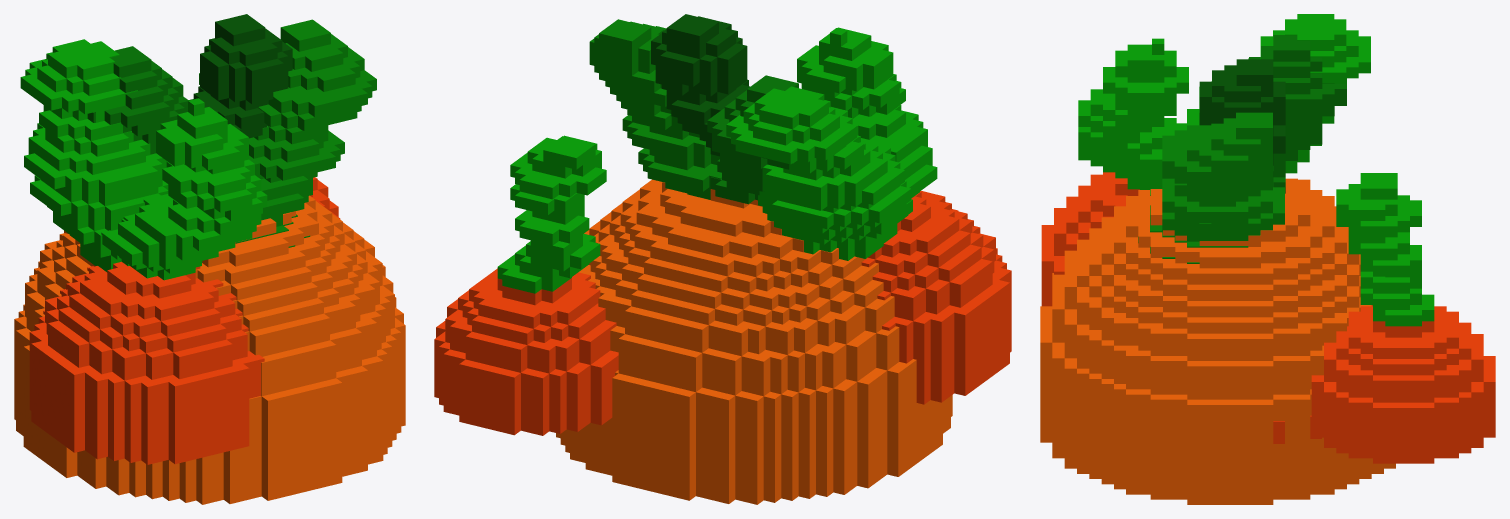
Rendered from CarrotTree.fbx.
3 renders of one model, left to right at view 1: azimuth 30°, elevation 25°; view 2: azimuth 150°, elevation 25°; view 3: azimuth 270°, elevation 25°, orthographic. The views are drawn at different scales.
Parts seen in each view (by area): view 1: CarrotTree, CarrotTree2, CarrotTree3; view 2: CarrotTree, CarrotTree2, CarrotTree3; view 3: CarrotTree, CarrotTree2, CarrotTree3.
Boxes of the visible parts, bbox=[...] form: CarrotTree: bbox=[14, 14, 405, 504]; CarrotTree2: bbox=[29, 73, 340, 464]; CarrotTree3: bbox=[20, 19, 376, 272]; CarrotTree: bbox=[556, 14, 952, 504]; CarrotTree2: bbox=[434, 27, 1011, 435]; CarrotTree3: bbox=[589, 19, 912, 260]; CarrotTree: bbox=[1040, 35, 1395, 504]; CarrotTree2: bbox=[1041, 38, 1495, 463]; CarrotTree3: bbox=[1138, 14, 1370, 443].
Size of the model in its own units: 370 by 340 by 371.
